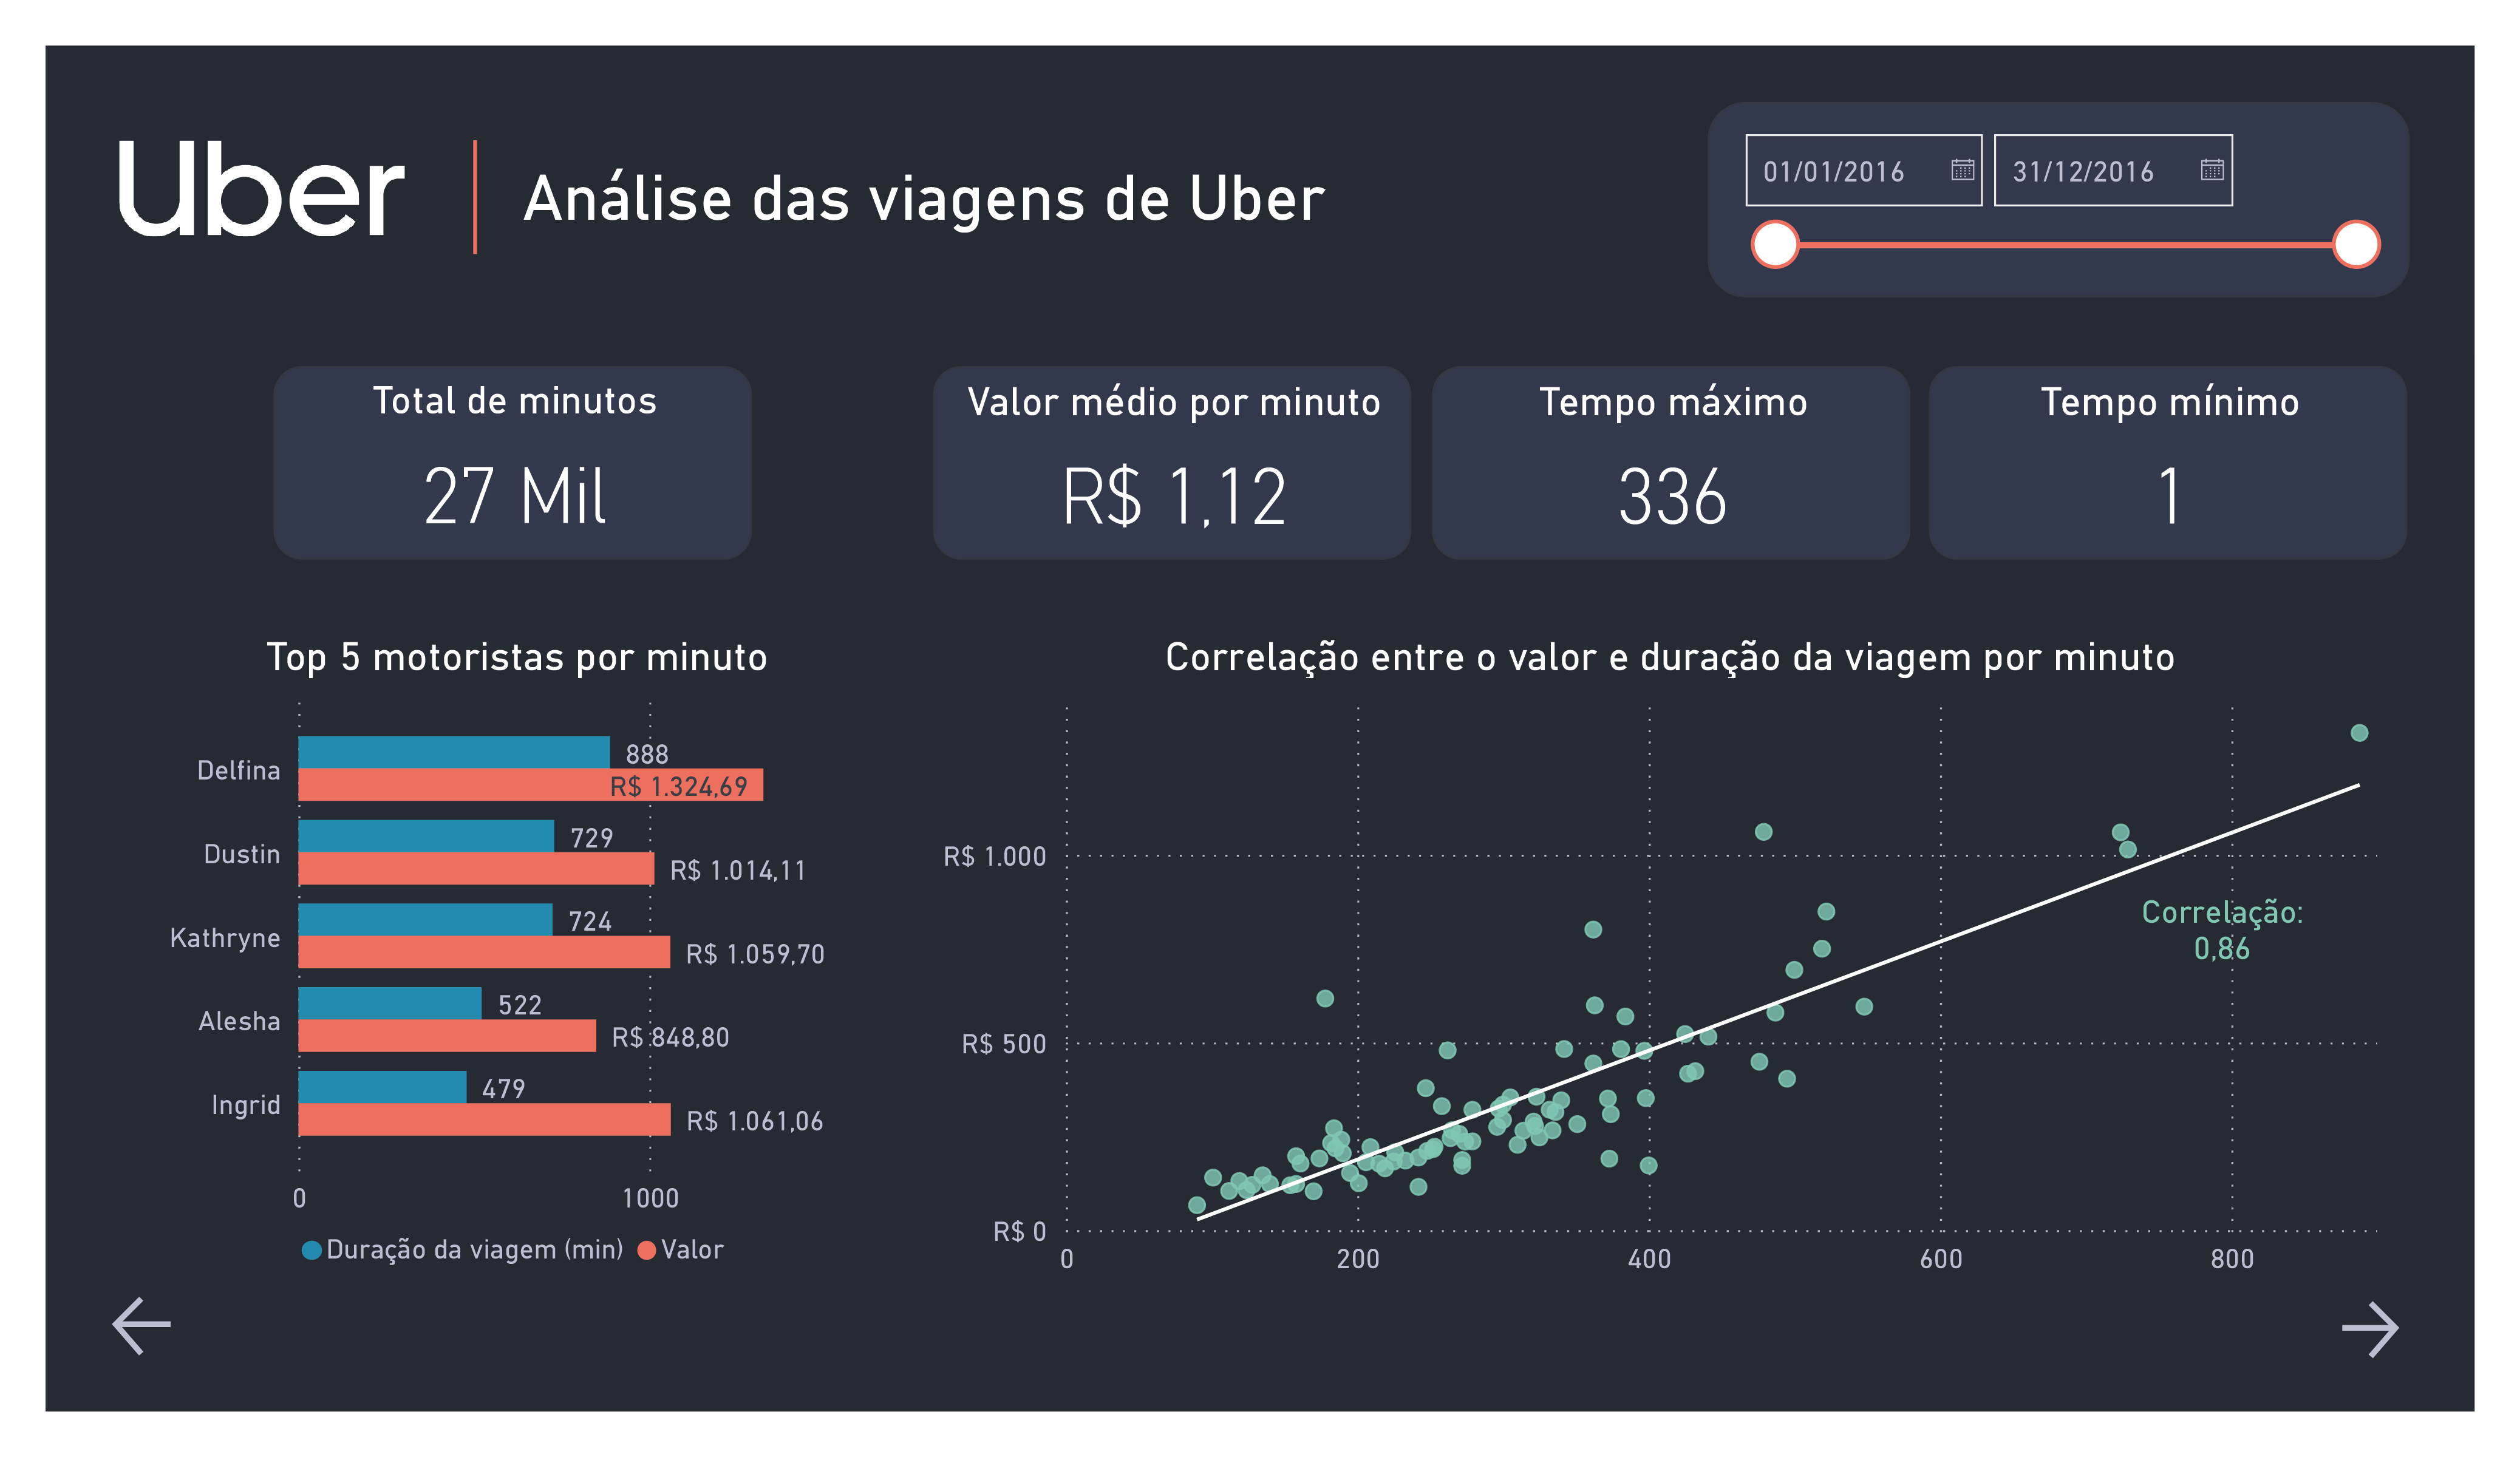

What the dashboard file says about the page in this screenshot:
{"tool":"powerbi","page":{"name":"Minuto","canvas":[1280,720],"ordinal":3},"visuals":[{"type":"card","title":"Total de minutos","fields":{"Values":["Dataset Uber 2016.DURAÇÃO DA VIAGEM (MIN)"]},"box":[120.3,169.3,252.4,102.4],"z":0},{"type":"card","title":"Tempo máximo","fields":{"Values":["Dataset Uber 2016.DURAÇÃO DA VIAGEM (MIN)"]},"box":[730.9,168.9,252.4,102.4],"z":1000},{"type":"card","title":"Tempo mínimo","fields":{"Values":["Dataset Uber 2016.DURAÇÃO DA VIAGEM (MIN)"]},"box":[993.1,168.9,252.4,102.4],"z":2000},{"type":"card","title":"Valor médio por minuto","fields":{"Values":["Dataset Uber 2016.# VALOR / MINUTO"]},"box":[468,168.9,252.4,102.4],"z":3000},{"type":"textbox","box":[246.2,56.5,597.9,54],"z":4000},{"type":"shape","box":[212.3,50.2,28.9,60.3],"z":5000},{"type":"image","box":[15.1,30.1,197.2,94.2],"z":6000},{"type":"actionButton","box":[1204.8,656.4,40.8,39.6],"z":7000},{"type":"scatterChart","title":"Correlação entre o valor e duração da viagem por minuto","fields":{"Category":["Drivers.ID_MOTORISTA"],"Y":["Dataset Uber 2016.VALOR"],"X":["Dataset Uber 2016.DURAÇÃO DA VIAGEM (MIN)"]},"box":[467.9,309.6,777.5,346.5],"z":8000},{"type":"clusteredBarChart","title":"Top 5 motoristas por minuto","fields":{"Category":["Drivers.NOME"],"Y":["Dataset Uber 2016.DURAÇÃO DA VIAGEM (MIN)","Dataset Uber 2016.VALOR"]},"box":[57.9,309.9,380.3,345.9],"z":9000},{"type":"textbox","box":[1070.3,441.7,154.5,50.9],"z":10000},{"type":"actionButton","box":[31.3,654.3,47,40.7],"z":11000},{"type":"slicer","fields":{"Values":["Dataset Uber 2016.INÍCIO_VIAGEM"]},"box":[876,29.2,369.9,103.2],"z":12000}]}

Visuals, with their boxes on the page's 1280x720 design canvas (x1, y1, x2, y2). These are canvas units, not pixel positions in the 2520x1457 screenshot, which may show the page scaled, cropped or inside an application window:
"Total de minutos" card: 120, 169, 373, 272
"Tempo máximo" card: 731, 169, 983, 271
"Tempo mínimo" card: 993, 169, 1246, 271
"Valor médio por minuto" card: 468, 169, 720, 271
textbox: 246, 56, 844, 110
shape: 212, 50, 241, 110
image: 15, 30, 212, 124
actionButton: 1205, 656, 1246, 696
"Correlação entre o valor e duração da viagem por minuto" scatterChart: 468, 310, 1245, 656
"Top 5 motoristas por minuto" clusteredBarChart: 58, 310, 438, 656
textbox: 1070, 442, 1225, 493
actionButton: 31, 654, 78, 695
slicer - Dataset Uber 2016.INÍCIO_VIAGEM: 876, 29, 1246, 132
